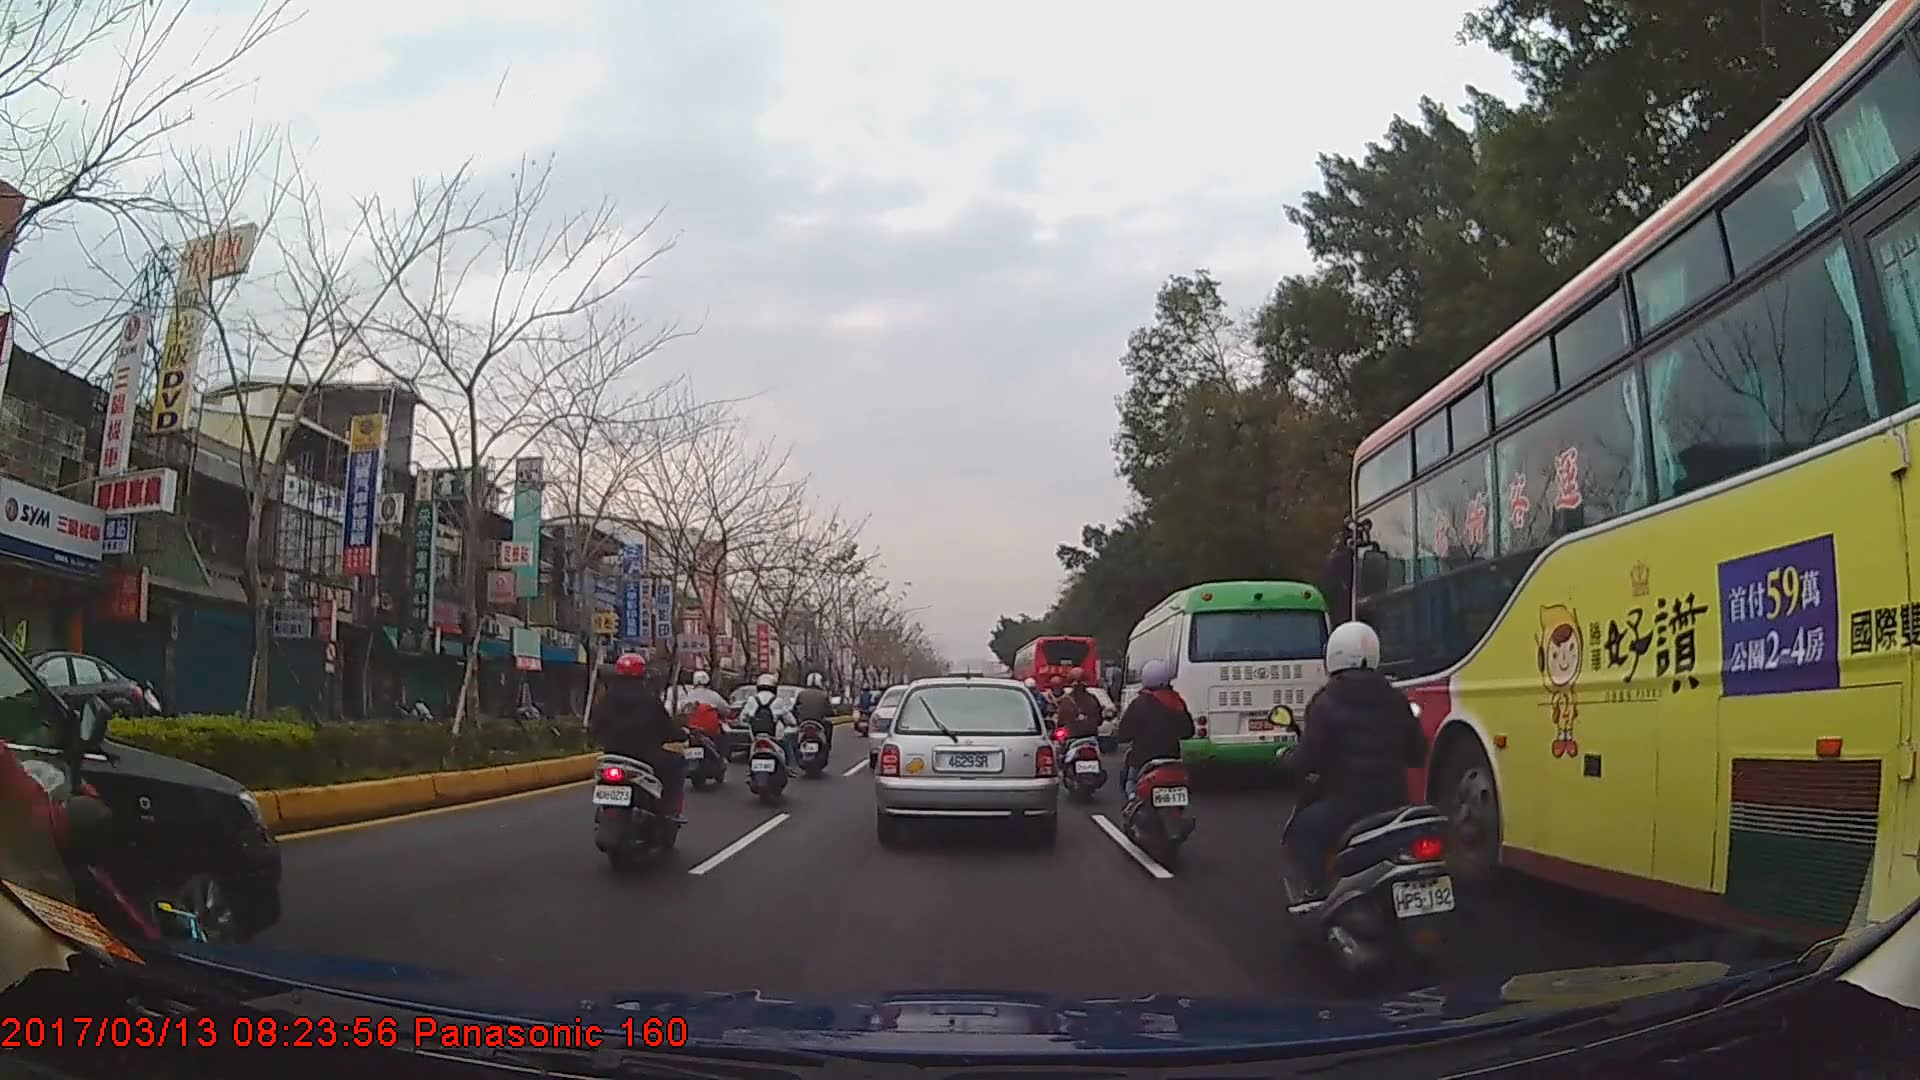rider: (1279, 617, 1460, 984), (596, 652, 692, 872), (1114, 656, 1203, 869), (742, 673, 796, 803), (677, 668, 733, 791), (1054, 666, 1104, 793), (795, 671, 837, 776), (857, 682, 878, 721)
vehicle: (1348, 0, 1920, 999), (1118, 579, 1338, 783), (878, 675, 1055, 839), (0, 641, 150, 730), (1013, 629, 1100, 733)
